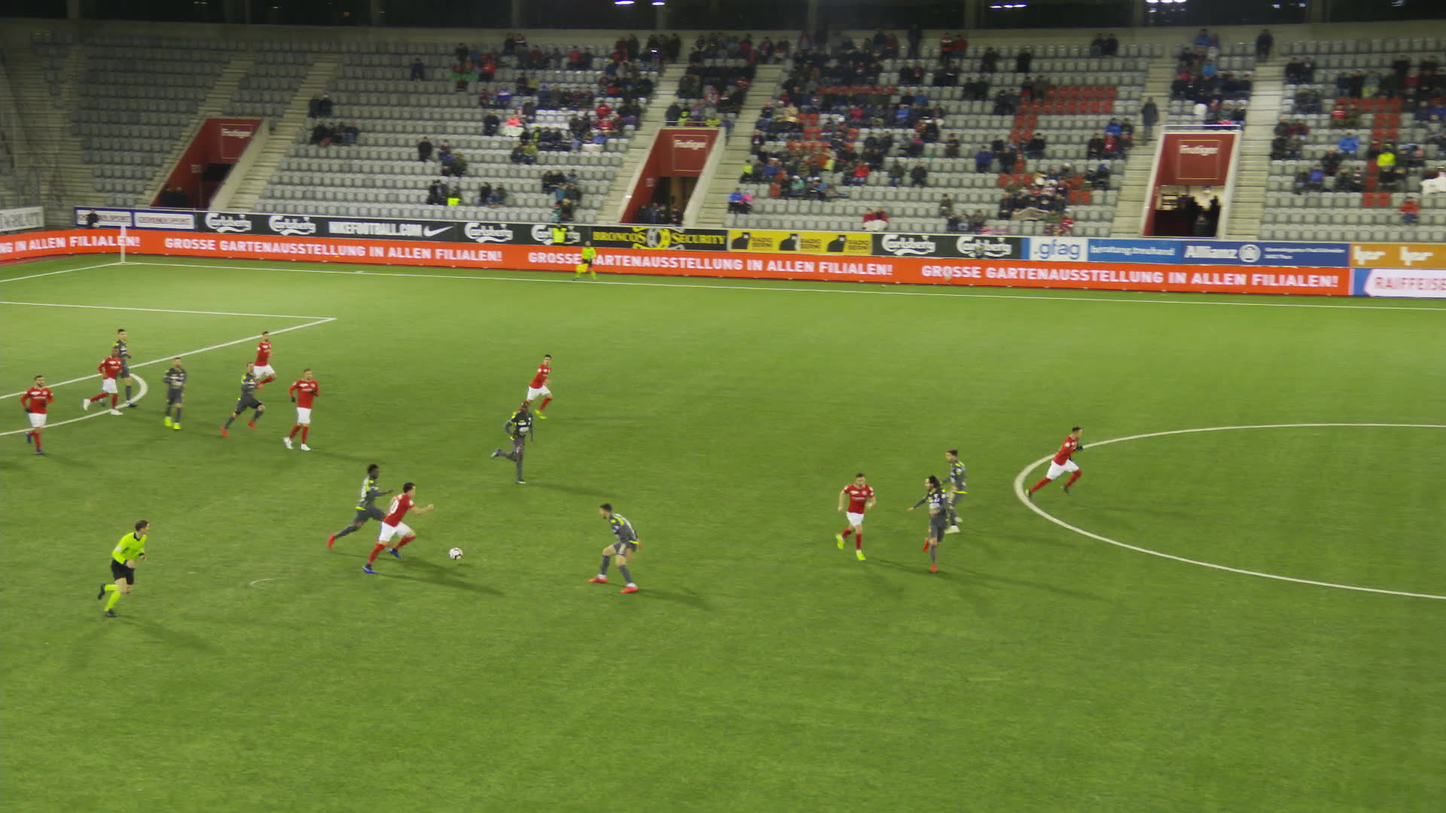ball: (446, 546, 463, 561)
player: (327, 461, 392, 556), (367, 481, 428, 575), (590, 500, 648, 594), (1023, 425, 1085, 504), (908, 473, 955, 571), (489, 399, 535, 483), (218, 361, 266, 439), (836, 473, 877, 561), (511, 352, 555, 425), (282, 367, 319, 452), (81, 344, 124, 415), (21, 373, 58, 455), (102, 329, 137, 410), (940, 446, 970, 535), (249, 330, 278, 400), (161, 355, 188, 430)
referee: (96, 518, 150, 619), (574, 239, 599, 282)
